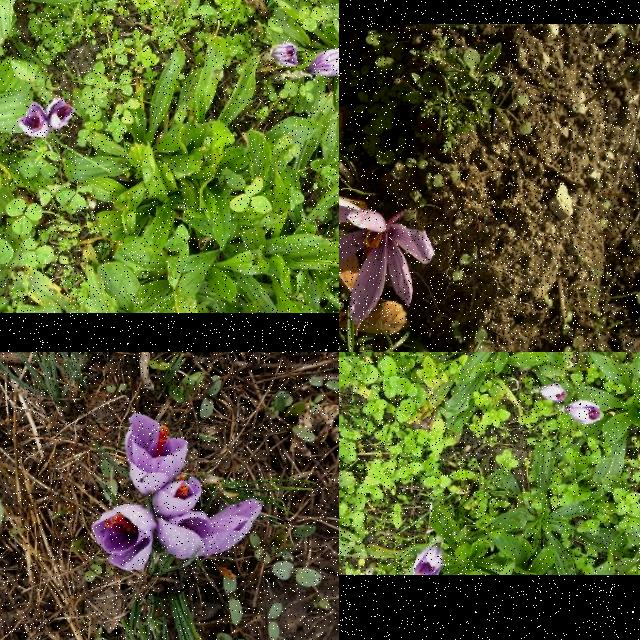flower: (339, 193, 433, 323), (156, 500, 262, 560), (125, 414, 189, 494), (92, 504, 158, 572), (152, 476, 204, 516), (16, 104, 48, 138), (46, 98, 76, 130), (412, 546, 444, 576), (308, 47, 339, 76), (568, 401, 604, 424), (272, 42, 298, 66), (540, 384, 568, 402)
